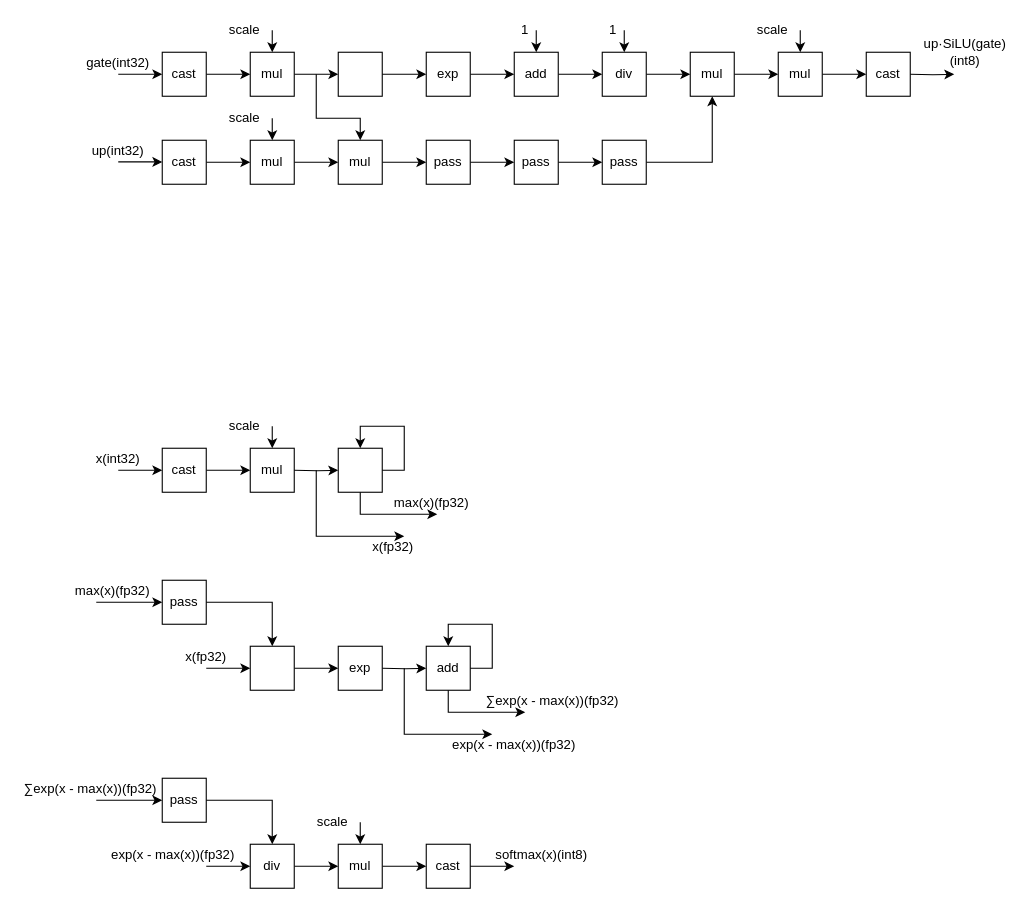
Image size: 1025x908. Some labels were removed from this diagram. The centre of each missing label's shape, as x and y in pixels:
"max" goes at point (359, 469).
"neg" goes at point (359, 73).
"sub" goes at point (271, 667).
